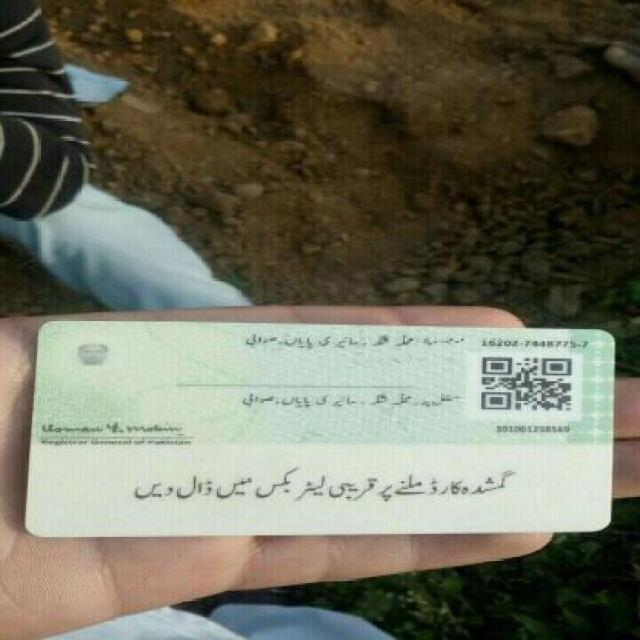Back: (20, 309, 626, 537)
